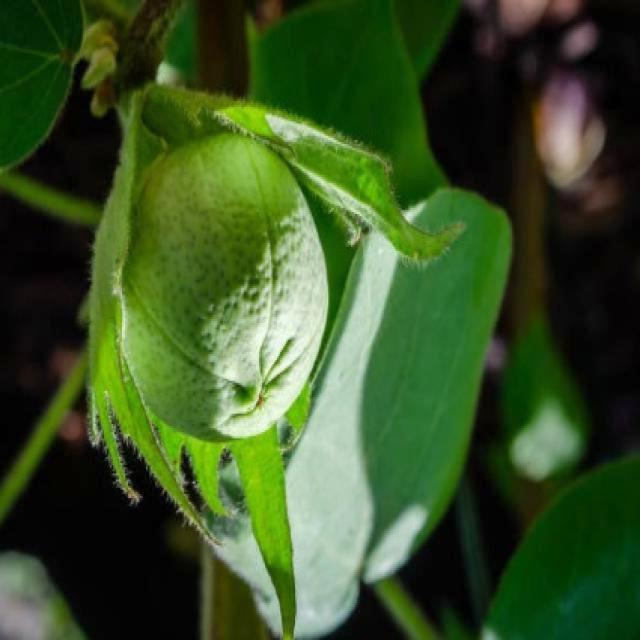Early Boll: (88, 89, 352, 468)
